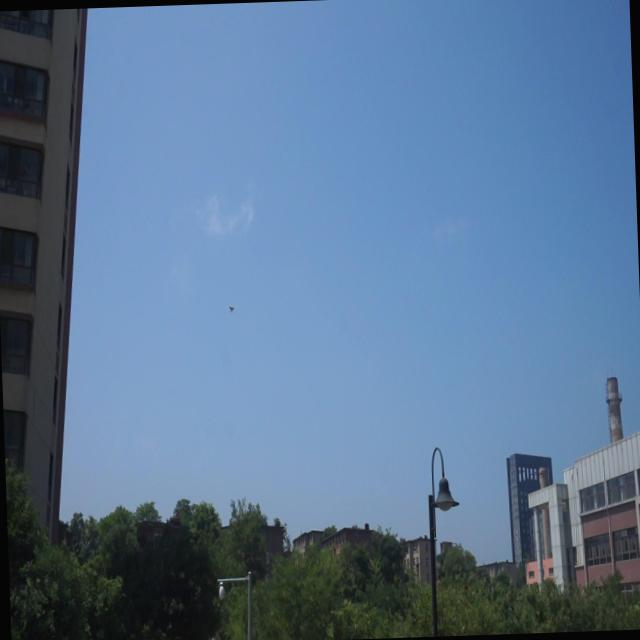drone: (227, 301, 235, 315)
